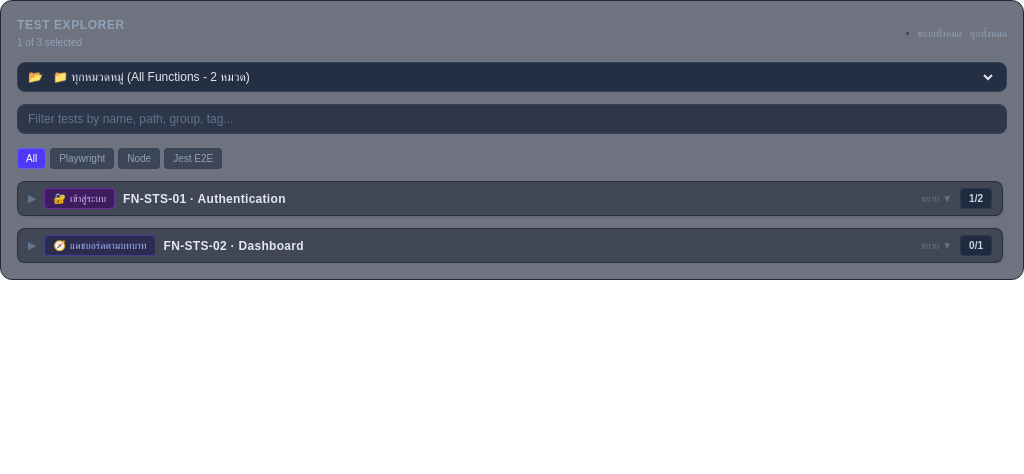
TestExplorer Component › renders sheet function labels in group headings and 'ตรงกับ Sheet' badge inside expanded group
This screenshot has width=1024, height=474.
Expected: the text "FN-STS-02 · Dashboard" is shown, [164, 238, 304, 254]
Expected: the text "Login with valid credentials" is not shown
What coordinates should you click on to do the following:
click the text "FN-STS-01 · Authentication"
I would click on:
 (204, 198)
Its box is [123, 190, 286, 206].
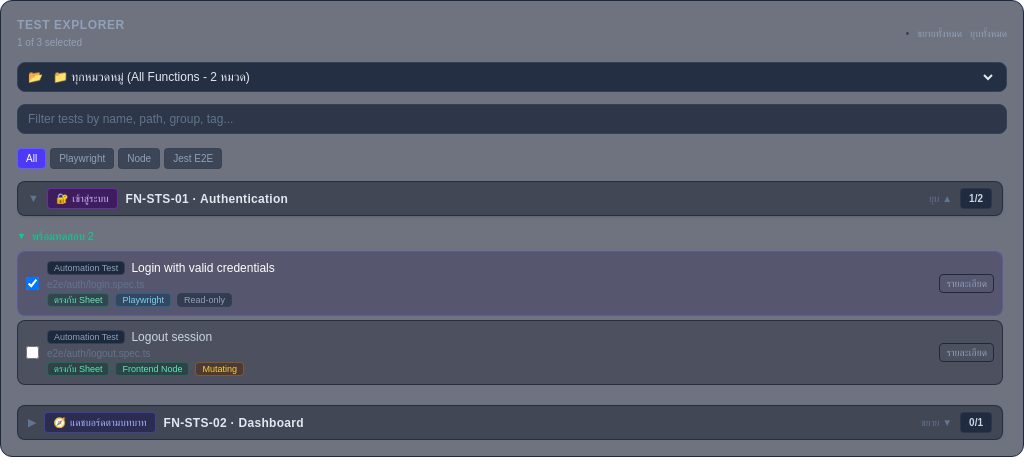
Expected: the text "Login with valid credentials" is shown, [131, 260, 275, 276]
